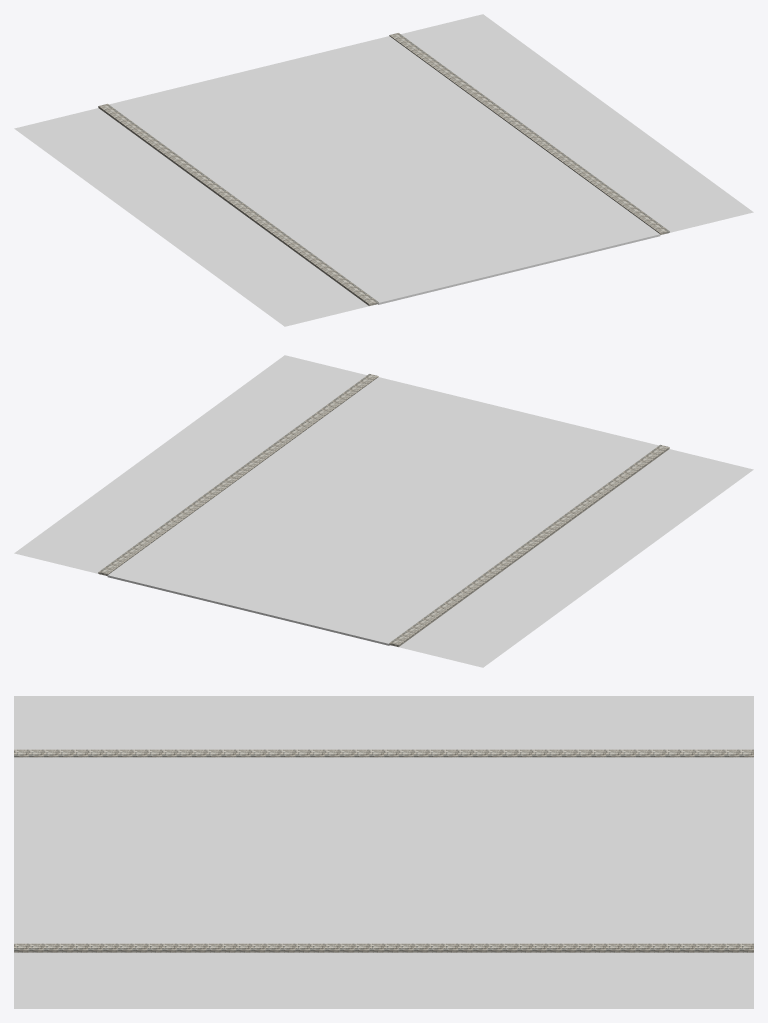
File: GradeBundesstraße.fbx
The picture shows the model from 3 angles, top to bottom: view 1: azimuth 30°, elevation 25°; view 2: azimuth 150°, elevation 25°; view 3: azimuth 270°, elevation 25°; orthographic projection. The views are drawn at different scales.
Parts seen in each view (by area): view 1: Street, Plane; view 2: Street, Plane; view 3: Street, Plane.
Boxes of the visible parts, box(x1,y1,x2,y2) form: Street: box(98, 33, 669, 305); Plane: box(14, 14, 753, 326); Street: box(98, 374, 669, 646); Plane: box(14, 355, 753, 667); Street: box(14, 749, 753, 952); Plane: box(14, 696, 753, 1008).
Size of the model in its own units: 2500 by 15 by 2500.
2 materials, 1 textured.
